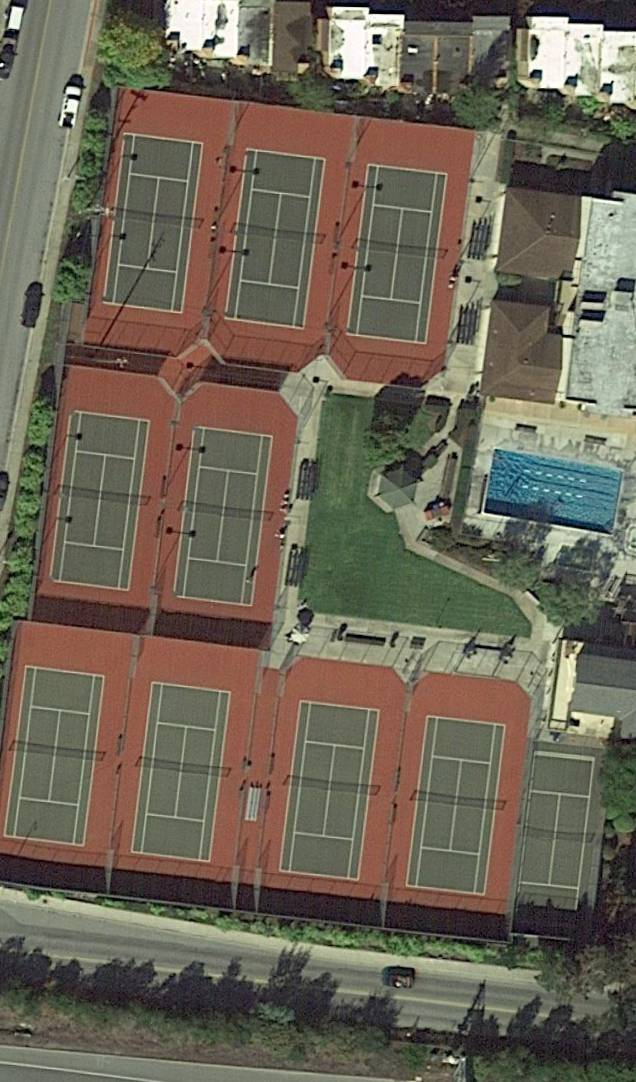small vehicle: (18, 288, 45, 331), (59, 83, 84, 129), (382, 973, 414, 991)
swimming pool: (484, 447, 624, 536)
tennis court: (3, 665, 106, 847), (102, 134, 205, 315), (173, 425, 275, 607), (278, 700, 381, 880), (224, 148, 326, 329), (345, 165, 448, 344), (406, 715, 507, 897), (49, 411, 150, 593), (130, 681, 232, 861)
